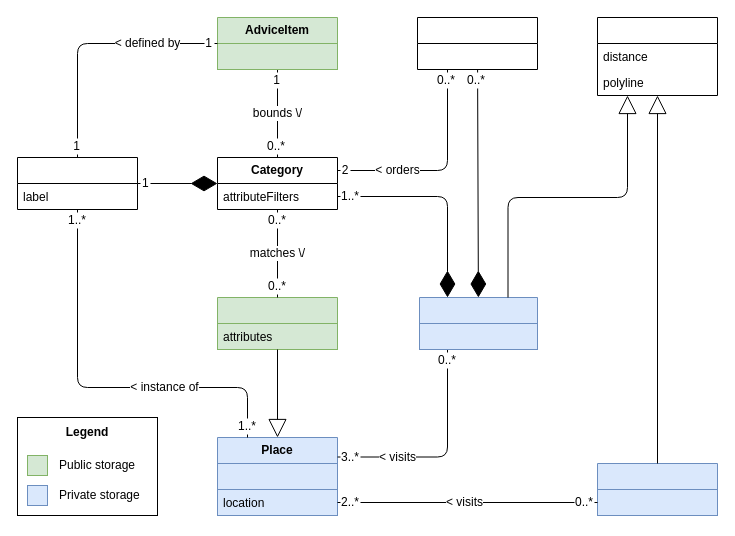
Image size: 735x536. Some labels were removed from this diagram. The shapes that lost their labels are listed below. From the top down, each one's box as (x1, y1, x2, y2) in pixels, then its label:
(216, 42, 338, 70): attributeBounds
(416, 16, 538, 70): Arrow
(596, 16, 718, 96): Path
(16, 156, 138, 210): Keyword
(216, 296, 338, 350): ExtendedPlace
(418, 296, 538, 350): Route
(216, 462, 338, 490): name
(596, 462, 718, 516): Direction
